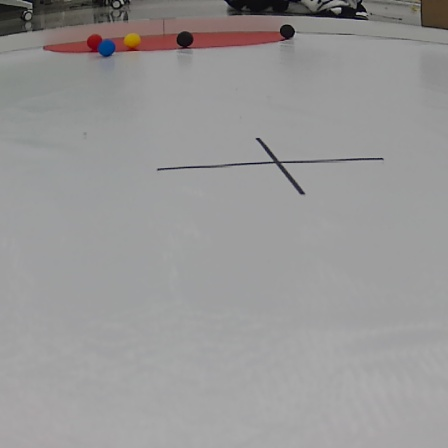black: (175, 31, 193, 46), (279, 23, 296, 36)
blue: (99, 39, 116, 59)
red: (85, 34, 103, 50)
red_base: (37, 30, 305, 52)
yellow: (122, 30, 142, 48)
